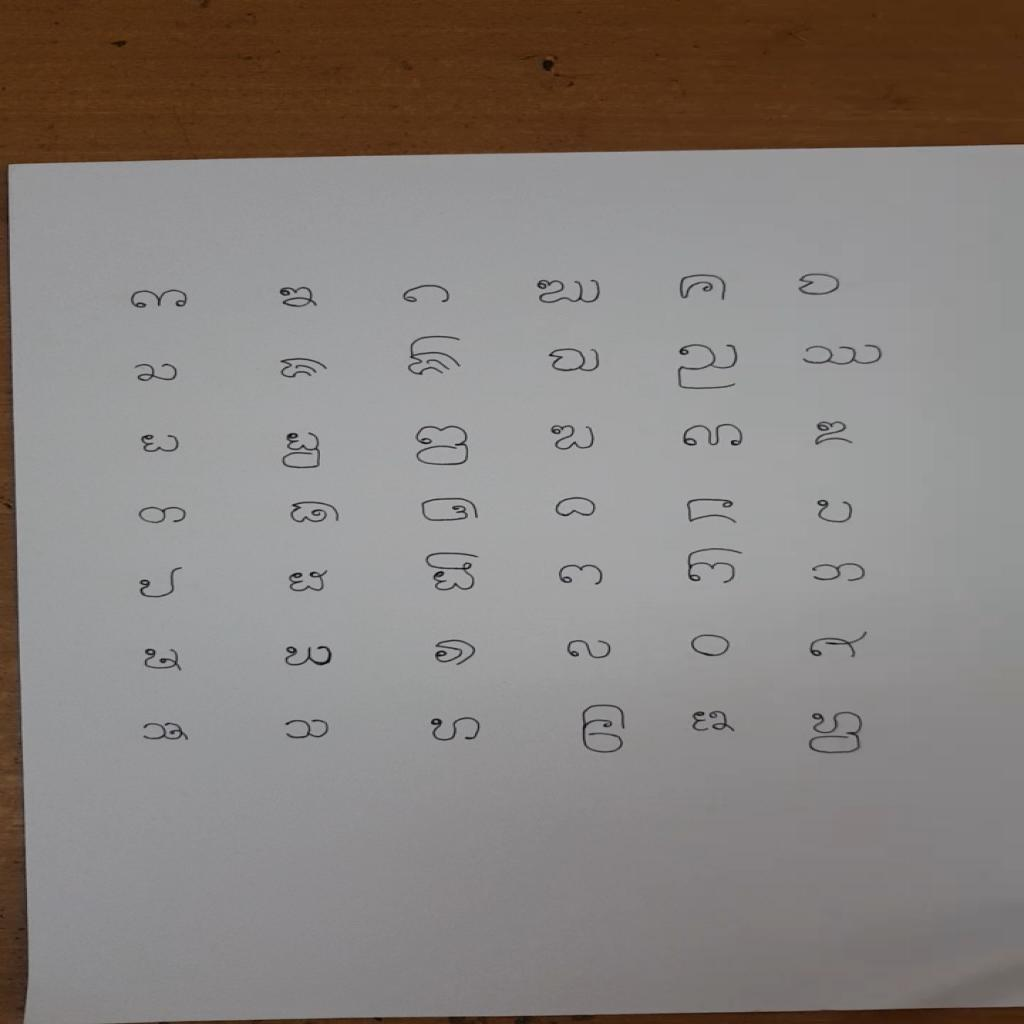LN001: (126, 288, 196, 313)
LN002: (276, 284, 324, 311)
LN003: (400, 283, 457, 307)
LN004: (533, 277, 606, 308)
LN005: (675, 272, 733, 304)
LN006: (794, 272, 847, 299)
LN007: (130, 362, 185, 386)
LN008: (276, 356, 334, 382)
LN009: (406, 334, 466, 380)
LN010: (546, 346, 607, 376)
LN011: (675, 342, 744, 394)
LN012: (800, 343, 889, 369)
LN013: (138, 433, 183, 457)
LN014: (279, 431, 328, 473)
LN015: (411, 423, 476, 470)
LN016: (547, 424, 602, 454)
LN017: (679, 422, 750, 450)
LN018: (810, 420, 860, 449)
LN019: (135, 504, 193, 527)
LN020: (288, 500, 346, 528)
LN021: (417, 495, 485, 526)
LN022: (552, 496, 602, 521)
LN023: (682, 497, 743, 528)
LN024: (811, 497, 861, 528)
LN025: (136, 565, 188, 602)
LN026: (284, 568, 333, 596)
LN027: (423, 550, 486, 595)
LN028: (555, 563, 610, 590)
LN029: (684, 546, 749, 588)
LN030: (806, 561, 876, 587)
LN031: (140, 645, 190, 675)
LN032: (279, 644, 340, 671)
LN033: (430, 637, 484, 671)
LN034: (563, 638, 619, 664)
LN035: (687, 632, 738, 661)
LN036: (806, 629, 876, 663)
LN037: (139, 719, 195, 746)
LN038: (280, 718, 337, 744)
LN039: (426, 715, 488, 746)
LN040: (578, 702, 633, 757)
LN041: (806, 709, 870, 759), (687, 708, 741, 736)
